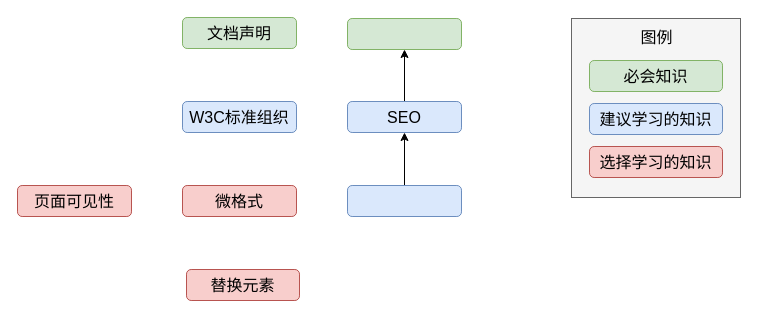
This 758x318 diagram has some shape labels left out. The box of each missing label's shape, as (x1, y1, x2, y2) in pixels:
iframe: (346, 184, 462, 216)
语义化: (346, 18, 462, 50)
